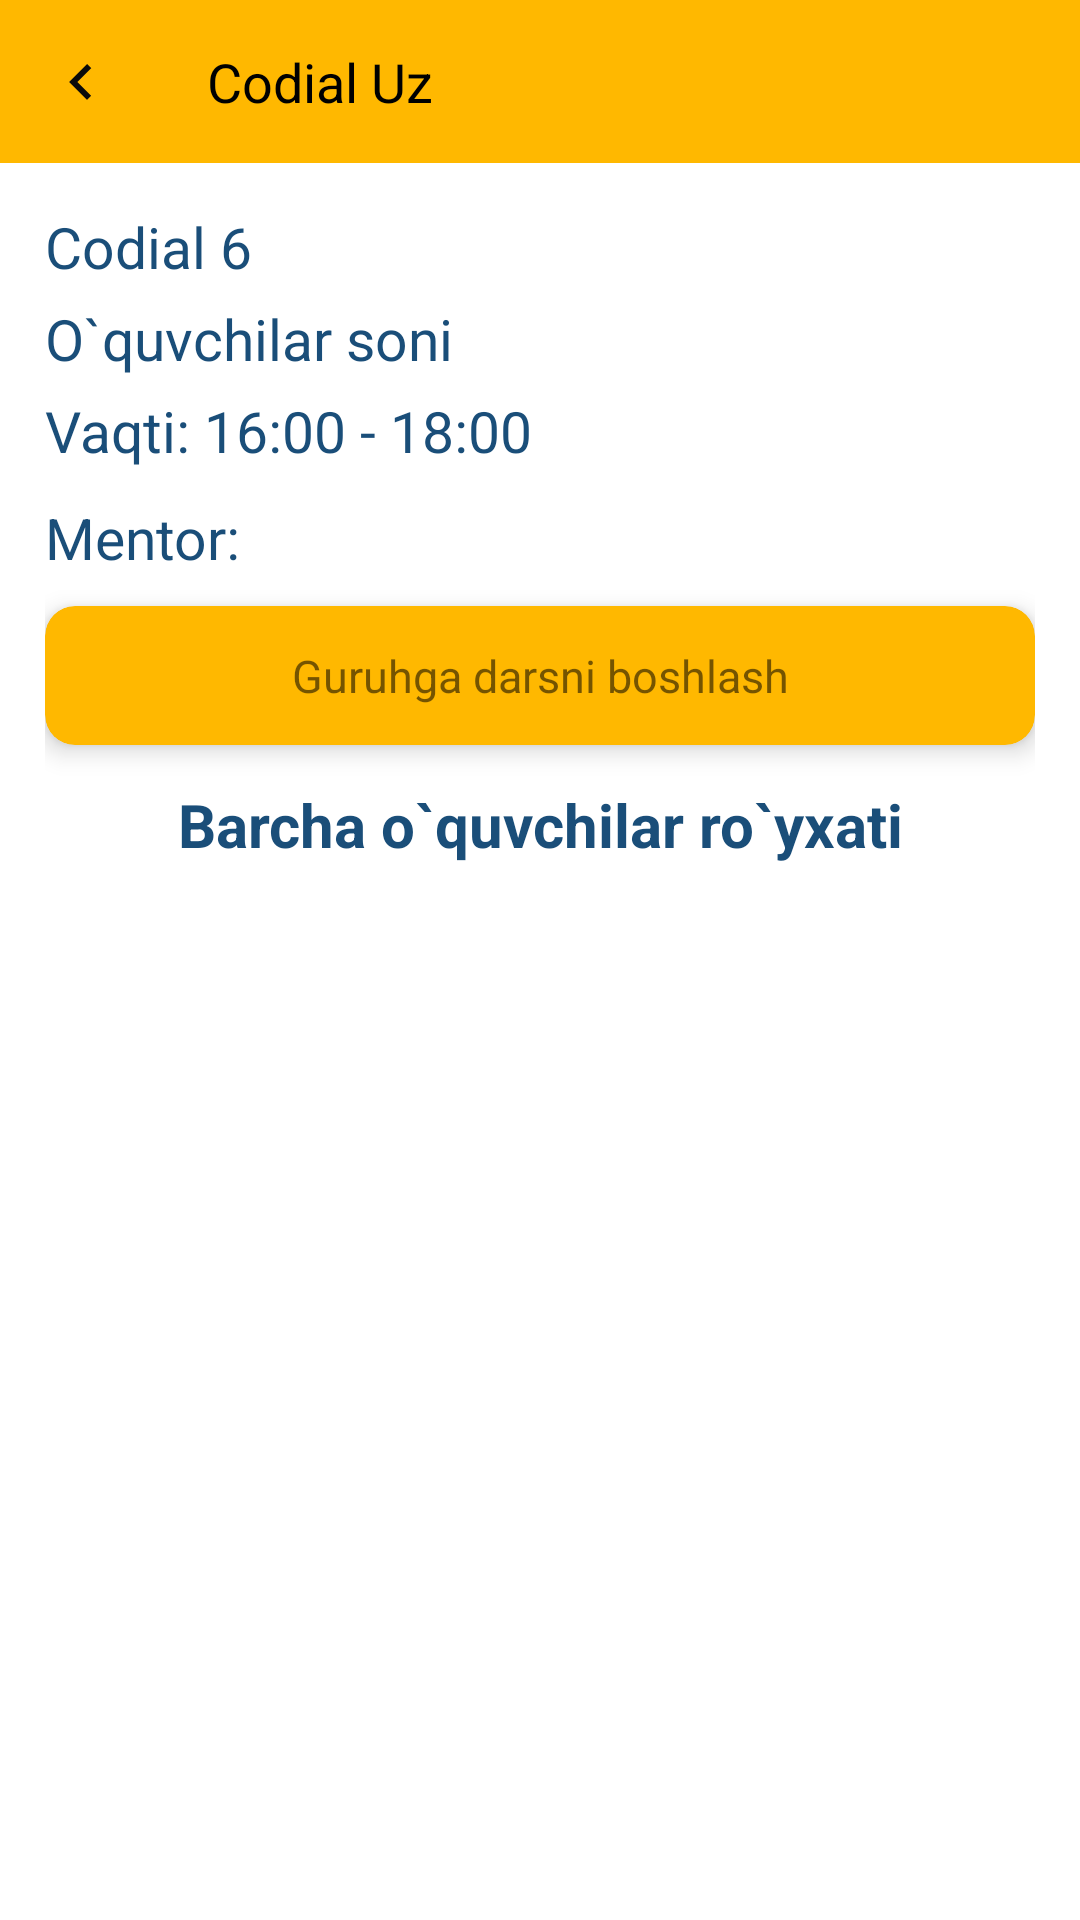

Named icons in this screenshot (1080*1920) and their bounding boxes, (x1, y1, x2, y2):
keyboard arrow left: (69, 64, 91, 100)
